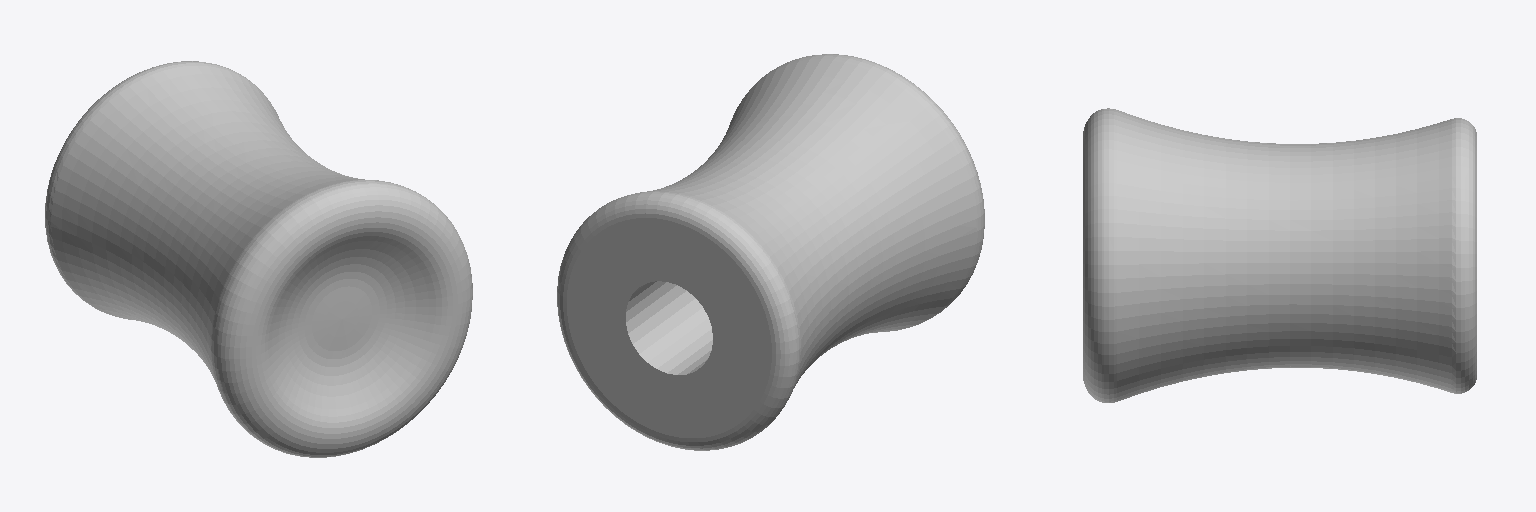
File: GripLeft.obj
3 views of the same model, side by side, from view 1: azimuth 30°, elevation 25°; view 2: azimuth 150°, elevation 25°; view 3: azimuth 270°, elevation 25° (orthographic).
Visible parts, largest first — view 1: ThrottleHandle; view 2: ThrottleHandle; view 3: ThrottleHandle.
Part boxes in pixels (bbox=[...]): ThrottleHandle: bbox=[45, 61, 472, 457]; ThrottleHandle: bbox=[557, 54, 984, 450]; ThrottleHandle: bbox=[1083, 108, 1476, 402].
Bounding box in the file's own units: 0.0303 × 0.0303 × 0.0405.